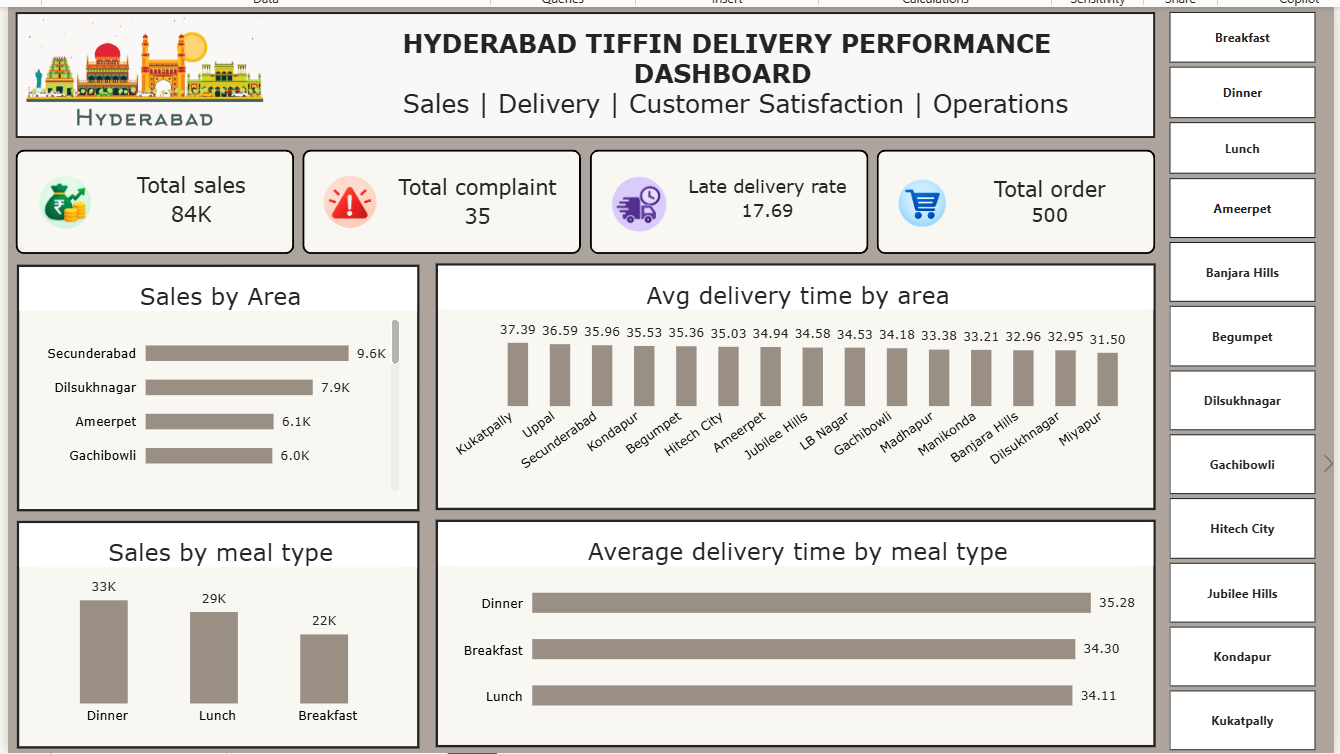

The dashboard page shown, as its layout file describes it:
{"tool":"powerbi","page":{"name":"Sales and Delivery","canvas":[1280,720],"ordinal":0},"visuals":[{"type":"shape","box":[7.2,4.3,1100,121.7],"z":0},{"type":"textbox","box":[324.7,21,738.3,87.7],"z":1000},{"type":"image","box":[8.6,0,246.9,124.7],"z":2000},{"type":"cardVisual","fields":{"Data":["Sum(hyderabad_tiffin_delivery_raw_data (1).order_amount)","hyderabad_tiffin_delivery_raw_data (1).total complaint","hyderabad_tiffin_delivery_raw_data (1).late delivery rate","Count(hyderabad_tiffin_delivery_raw_data (1).order_id)"]},"box":[7.4,137,1100,101.2],"z":3000},{"type":"clusteredBarChart","title":"Sales by Area","fields":{"Category":["hyderabad_tiffin_delivery_raw_data (1).area"],"Y":["Sum(hyderabad_tiffin_delivery_raw_data (1).order_amount)"]},"box":[8.6,248.1,388.9,238.3],"z":4000},{"type":"clusteredColumnChart","title":"Sales by meal type","fields":{"Category":["hyderabad_tiffin_delivery_raw_data (1).meal_type"],"Y":["Sum(hyderabad_tiffin_delivery_raw_data (1).order_amount)"]},"box":[8.6,496.3,388.9,219.8],"z":5000},{"type":"columnChart","title":"Avg delivery time by area","fields":{"Category":["hyderabad_tiffin_delivery_raw_data (1).area"],"Y":["Avg(hyderabad_tiffin_delivery_raw_data (1).delivery_time_min)"]},"box":[412.3,246.9,695.1,238.3],"z":6000},{"type":"clusteredBarChart","title":"Average  delivery time by meal type","fields":{"Category":["hyderabad_tiffin_delivery_raw_data (1).meal_type"],"Y":["Avg(hyderabad_tiffin_delivery_raw_data (1).delivery_time_min)"]},"box":[412.3,495.1,695.1,219.8],"z":7000},{"type":"slicer","fields":{"Values":["hyderabad_tiffin_delivery_raw_data (1).area"]},"box":[1100,163,180.2,556.8],"z":8000},{"type":"slicer","fields":{"Values":["hyderabad_tiffin_delivery_raw_data (1).meal_type"]},"box":[1100,2.5,180.2,160.5],"z":9000}]}

Visuals, with their boxes in screenshot pixels (x1, y1, x2, y2):
shape: 14/8/1150/134
textbox: 342/25/1104/116
image: 16/3/271/132
cardVisual - Sum(hyderabad_tiffin_delivery_raw_data (1).order_amount) x hyderabad_tiffin_delivery_raw_data (1).total complaint: 15/145/1150/249
"Sales by Area" clusteredBarChart: 16/260/417/506
"Sales by meal type" clusteredColumnChart: 16/516/417/743
"Avg delivery time by area" columnChart: 433/258/1150/504
"Average  delivery time by meal type" clusteredBarChart: 433/515/1150/742
slicer - hyderabad_tiffin_delivery_raw_data (1).area: 1143/172/1329/747
slicer - hyderabad_tiffin_delivery_raw_data (1).meal_type: 1143/6/1329/172
